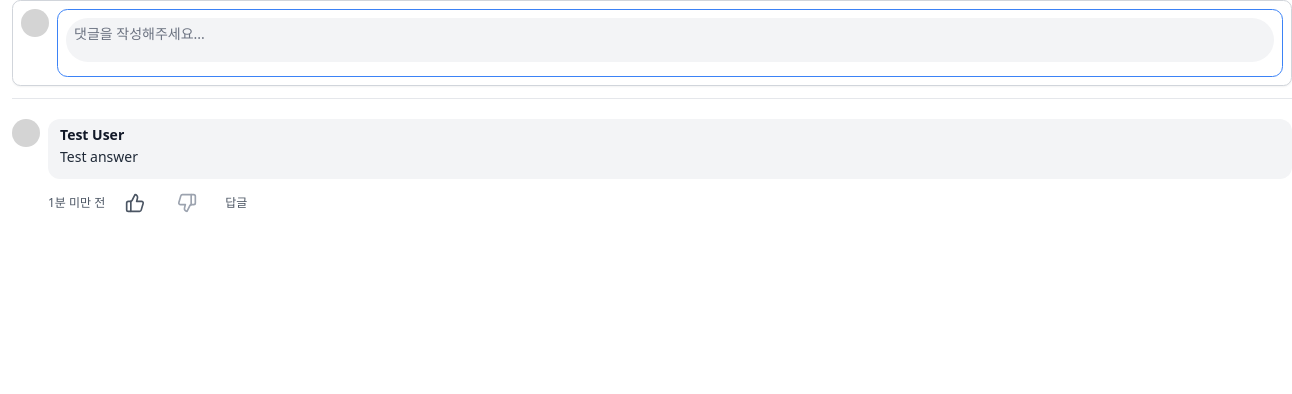
Test: FacebookAnswerThread Integration Tests › Reply Mode › should show reply input when reply button is clicked
The width and height of the screenshot is (1292, 394).
Click the button "답글" at (239, 203), box [217, 181, 261, 225]
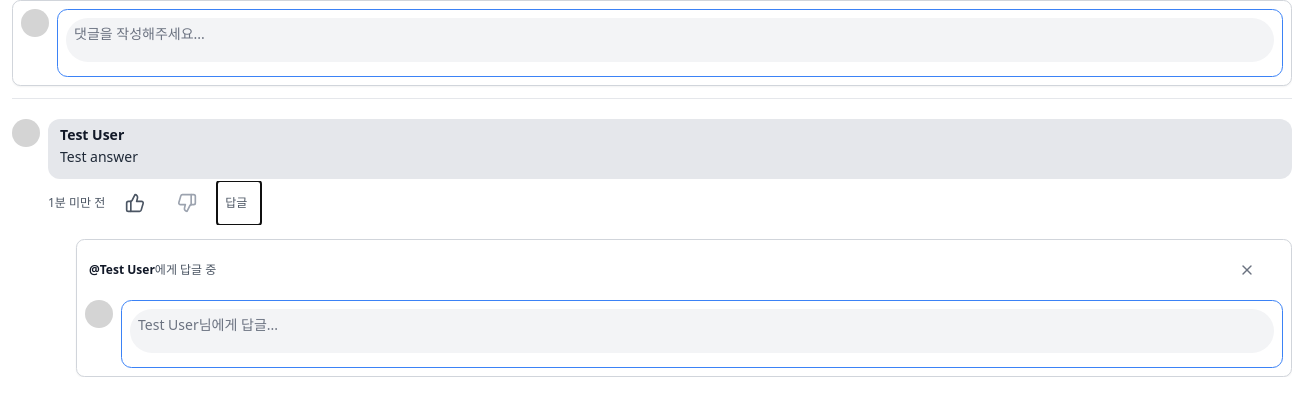
Now the text box with placeholder "님에게 답글..." is shown, box [130, 309, 1274, 353]
